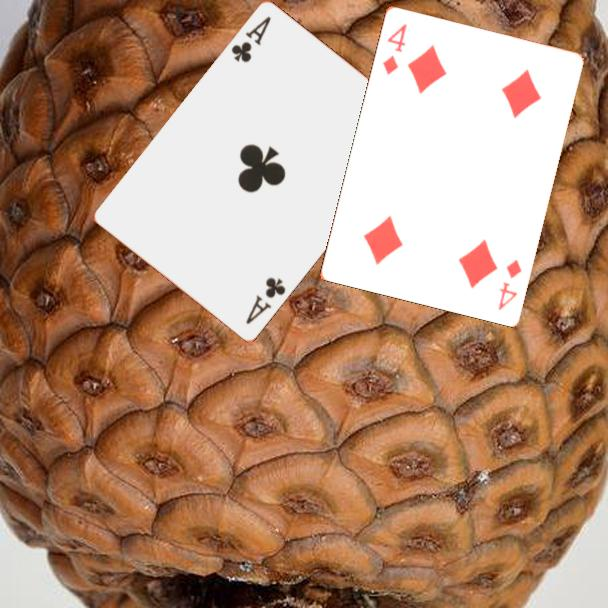c01: (242, 274, 289, 328), (228, 13, 274, 66)
d04: (494, 255, 524, 313), (379, 20, 409, 77)
